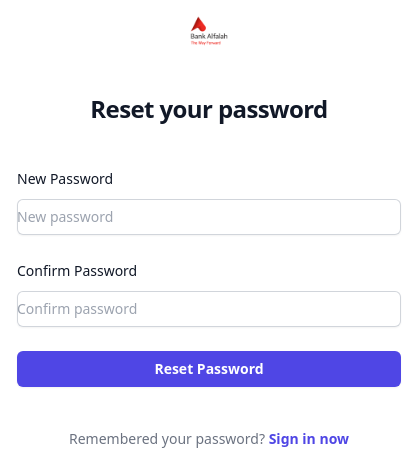
Test: Success Page › displays correct message after password reset
The width and height of the screenshot is (419, 465).
In the password field named "newPassword": (209, 217) [17,199,401,235], type "newpassword123"
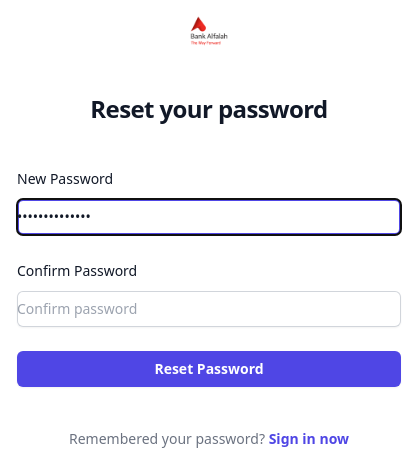
In the password field named "confirmPassword": (209, 309) [17,291,401,327], type "newpassword123"
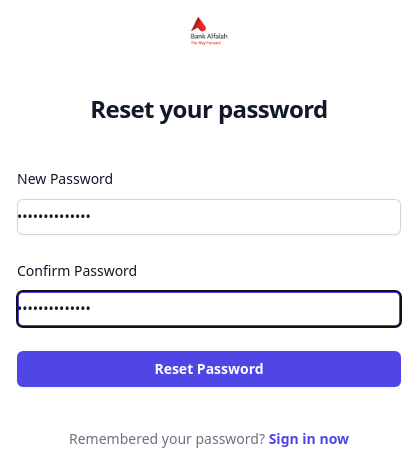
Click the submit button: (209, 369) [17,351,401,387]
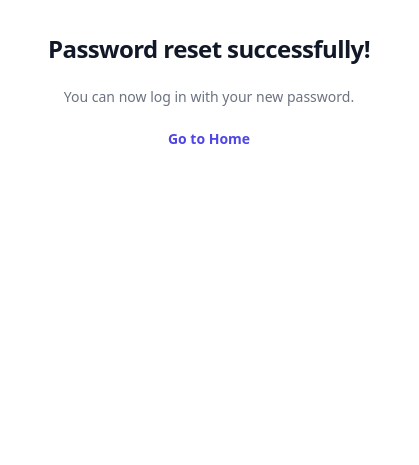
Check: the heading "Password reset successfully!" is shown, box [48,32,370,65]
Check: the text "You can now log in with your new password." is shown, box [64,87,354,106]
Check: the link "Go to Home" is shown, box [168,129,250,148]
